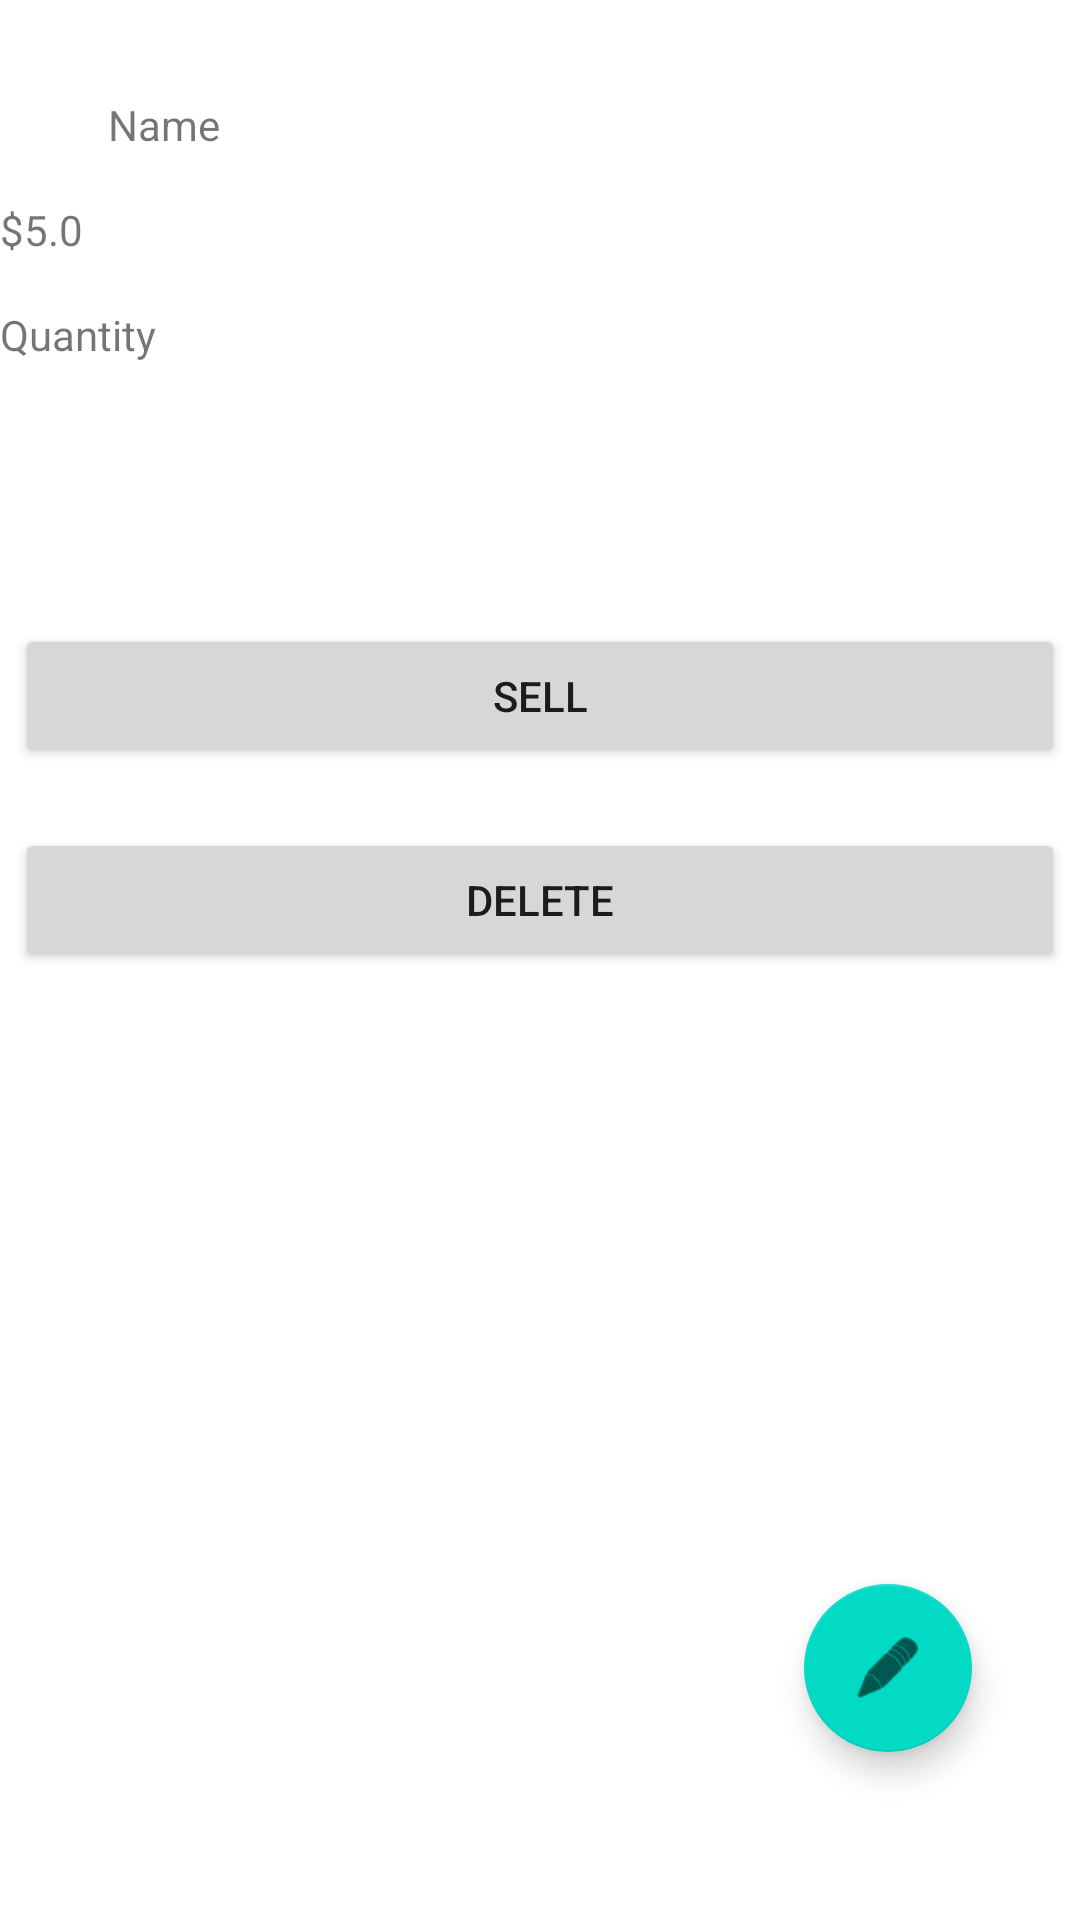

Where icons sit on this 1080 × 1920 app screen, as (x1, y1, x2, y2):
edit: (804, 1584, 972, 1752)
